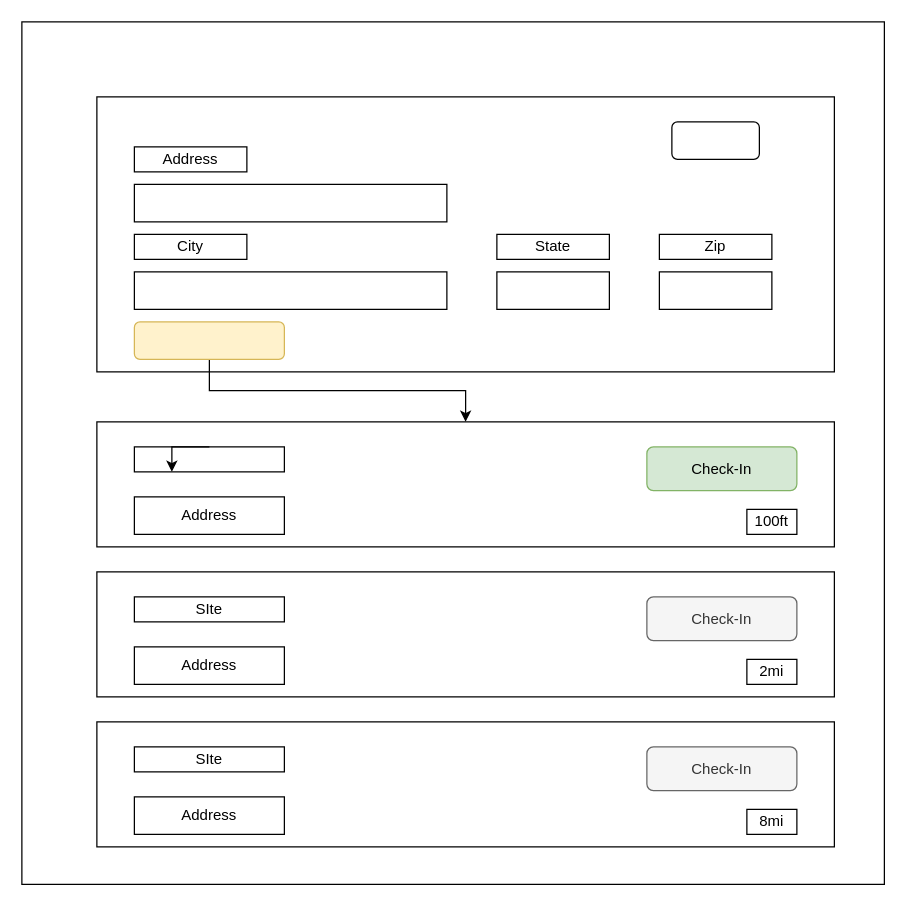
Image size: 906x906. Some labels were removed from this diagram. Here are the shapes that lost their labels. From the top down, the centre of each, then its label:
At (715,140): "Use Current Location".
At (208,340): "Find Locations".
At (208,459): "Cecile Walnut".
